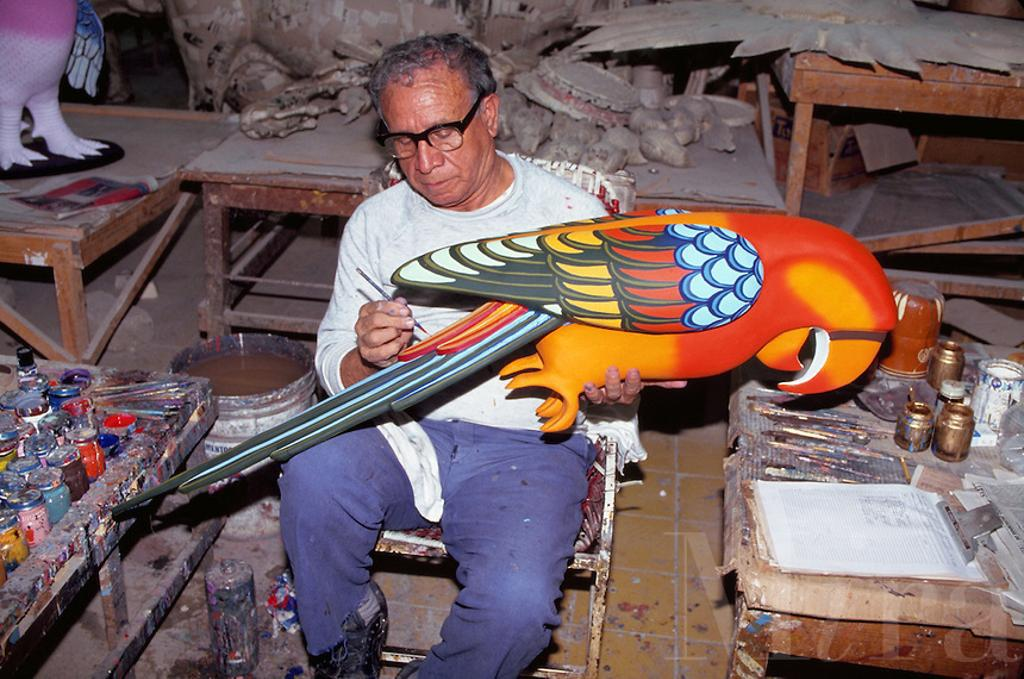face: (389, 73, 477, 203)
